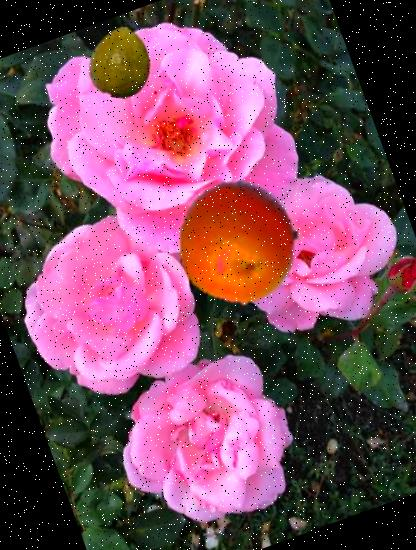Guava: (74, 16, 166, 107)
Tangelo: (159, 162, 320, 323)
